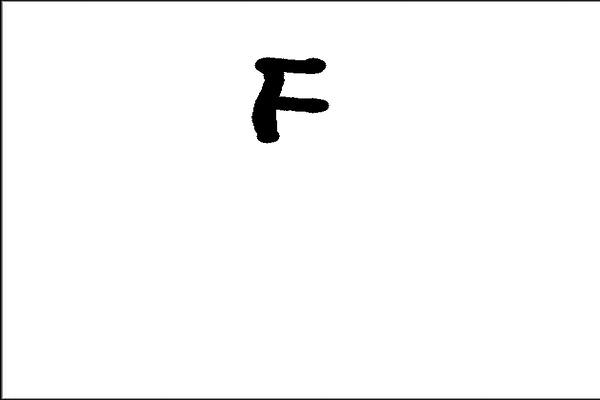F: (248, 53, 335, 145)
